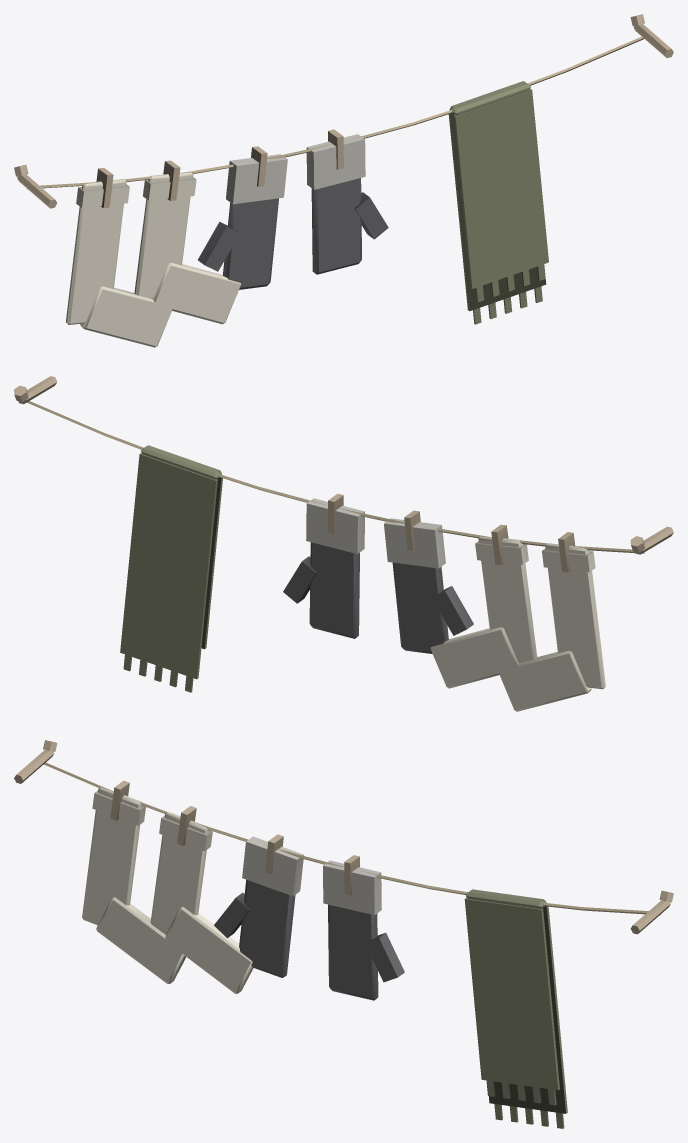
Rendered from drying_line.glb.
3 renders of one model, top to bottom at view 1: azimuth 30°, elevation 25°; view 2: azimuth 150°, elevation 25°; view 3: azimuth 330°, elevation 25°, orthographic.
Visible parts, largest first — view 1: static; view 2: static; view 3: static.
Boxes of the visible parts, x1,y1,x2,y2 form: static: [14, 14, 673, 347]; static: [14, 376, 673, 711]; static: [14, 740, 673, 1128].
Bounding box in the file's own units: 1.22 × 0.4962 × 0.1199.
